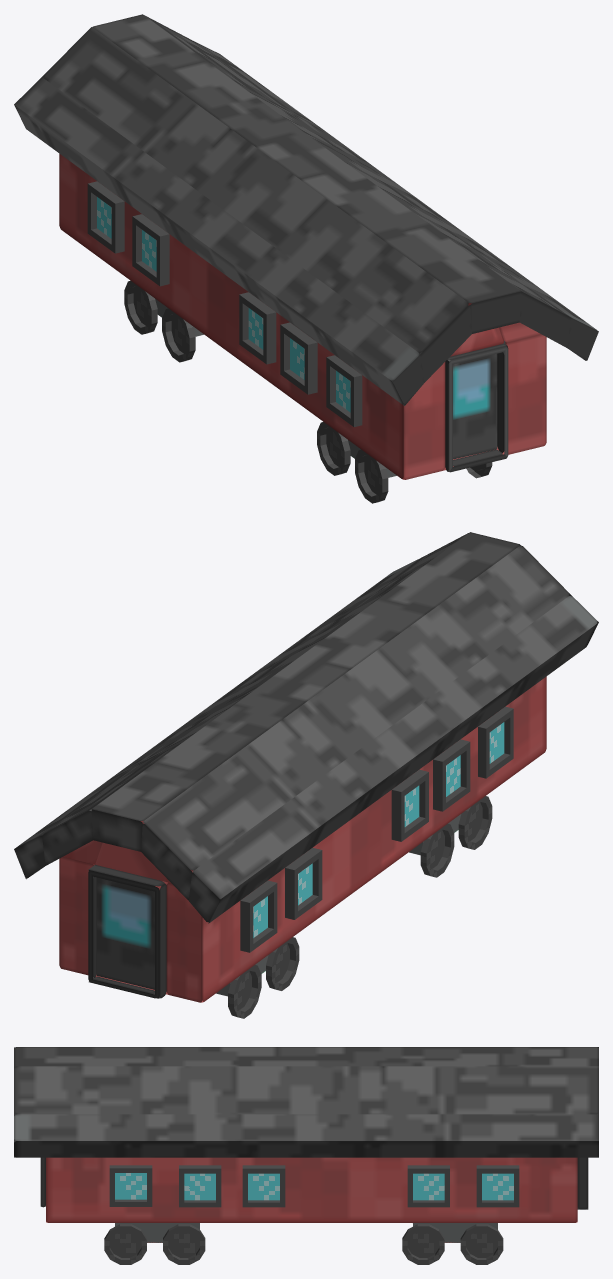
The model's file is ToaTau04 1.fbx.
The picture shows the model from 3 angles, top to bottom: view 1: azimuth 30°, elevation 25°; view 2: azimuth 150°, elevation 25°; view 3: azimuth 270°, elevation 25°; orthographic projection. The views are drawn at different scales.
Parts seen in each view (by area): view 1: toa01, Window01_1, Window01_2, Window01_3, Window01_4, Window01, circle_7, circle_1, circle_5, circle_3; view 2: toa01, Window01_1, Window01_4, Window01_2, Window01_3, Window01, circle_3, circle_5, circle_7, circle_1; view 3: toa01, Window01_2, Window01_4, Window01, Window01_1, Window01_3, circle_6, circle, circle_2, circle_4, cuboid_2, cuboid.
Boxes of the visible parts, left/top/right/bottom form: toa01: left=14, top=14, right=598, bottom=479; Window01_1: left=280, top=322, right=317, bottom=394; Window01_2: left=239, top=292, right=276, bottom=364; Window01_3: left=132, top=214, right=169, bottom=286; Window01_4: left=87, top=181, right=124, bottom=253; Window01: left=326, top=341, right=505, bottom=426; circle_7: left=162, top=308, right=195, bottom=362; circle_1: left=124, top=280, right=157, bottom=334; circle_5: left=355, top=449, right=388, bottom=503; circle_3: left=317, top=422, right=350, bottom=475; toa01: left=14, top=532, right=598, bottom=1002; Window01_1: left=433, top=739, right=470, bottom=811; Window01_4: left=240, top=880, right=277, bottom=952; Window01_2: left=391, top=769, right=428, bottom=841; Window01_3: left=285, top=848, right=322, bottom=919; Window01: left=478, top=706, right=513, bottom=778; circle_3: left=420, top=823, right=454, bottom=877; circle_5: left=458, top=796, right=492, bottom=849; circle_7: left=266, top=937, right=299, bottom=990; circle_1: left=228, top=965, right=261, bottom=1018; toa01: left=14, top=1047, right=598, bottom=1222; Window01_2: left=242, top=1165, right=285, bottom=1207; Window01_4: left=476, top=1165, right=519, bottom=1207; Window01: left=109, top=1165, right=152, bottom=1206; Window01_1: left=179, top=1165, right=221, bottom=1207; Window01_3: left=407, top=1165, right=449, bottom=1207; circle_6: left=460, top=1224, right=503, bottom=1264; circle: left=163, top=1224, right=205, bottom=1264; circle_2: left=104, top=1224, right=146, bottom=1264; circle_4: left=402, top=1224, right=444, bottom=1264; cuboid_2: left=413, top=1223, right=497, bottom=1242; cuboid: left=115, top=1223, right=199, bottom=1242.
Bounding box in the file's own units: 216 × 243 × 688.
Materials: 6 (6 with a texture image).
